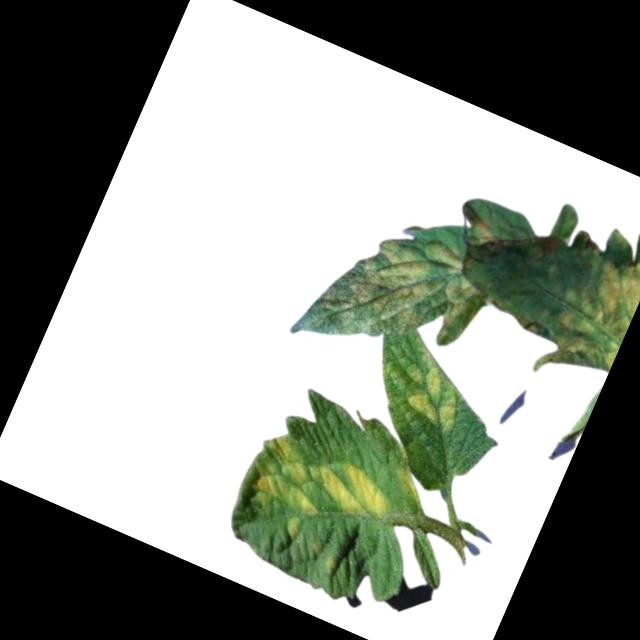Leaf_Mold: (337, 218, 494, 365), (541, 217, 640, 374), (238, 426, 340, 529), (391, 346, 478, 434), (307, 451, 405, 529), (469, 216, 501, 248), (320, 549, 345, 577), (282, 515, 305, 542)
